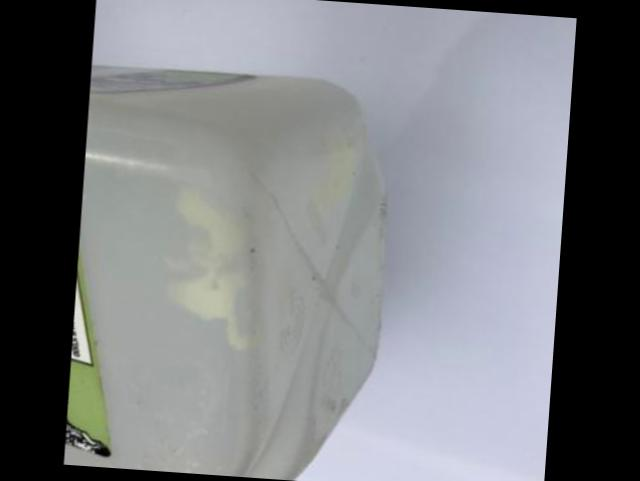plastic: (63, 67, 386, 480)
